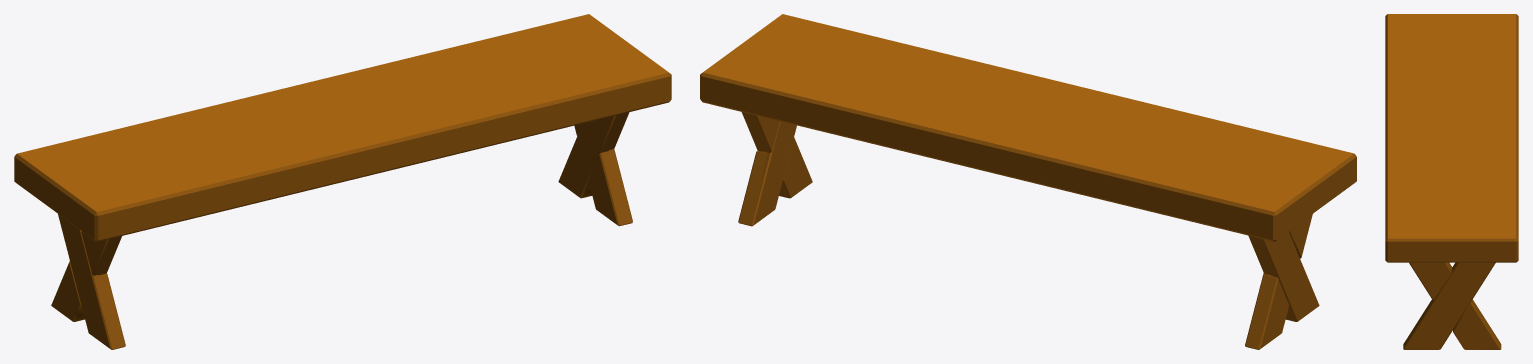
Rendered from bench.glb.
3 views of the same model, side by side, from view 1: azimuth 30°, elevation 25°; view 2: azimuth 150°, elevation 25°; view 3: azimuth 270°, elevation 25° (orthographic). The views are drawn at different scales.
Parts seen in each view (by area): view 1: bench; view 2: bench; view 3: bench.
Part boxes in pixels (left/top/right/bottom): bench: left=14, top=14, right=671, bottom=349; bench: left=700, top=14, right=1356, bottom=349; bench: left=1385, top=14, right=1518, bottom=349.
Size of the model in its own units: 2.11 by 0.5298 by 0.5259.
